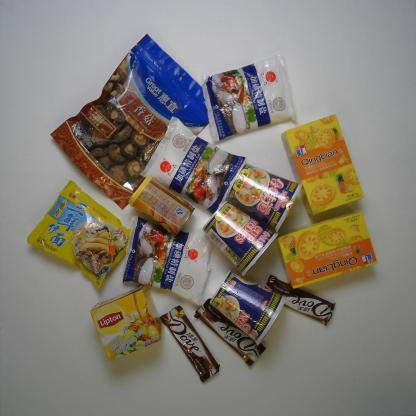Canned Food: (122, 173, 198, 239)
Chocolate: (193, 296, 271, 368), (157, 302, 223, 387), (260, 272, 339, 328)
Dessert: (278, 111, 365, 217), (276, 211, 380, 294)
Dried Food: (48, 34, 216, 210)
Instant Drink: (88, 285, 163, 362)
Instant Noodles: (22, 179, 133, 291), (204, 268, 290, 344), (202, 198, 281, 276), (221, 158, 303, 233)
Seasoner: (147, 113, 251, 212), (200, 53, 301, 145), (121, 217, 214, 307)
